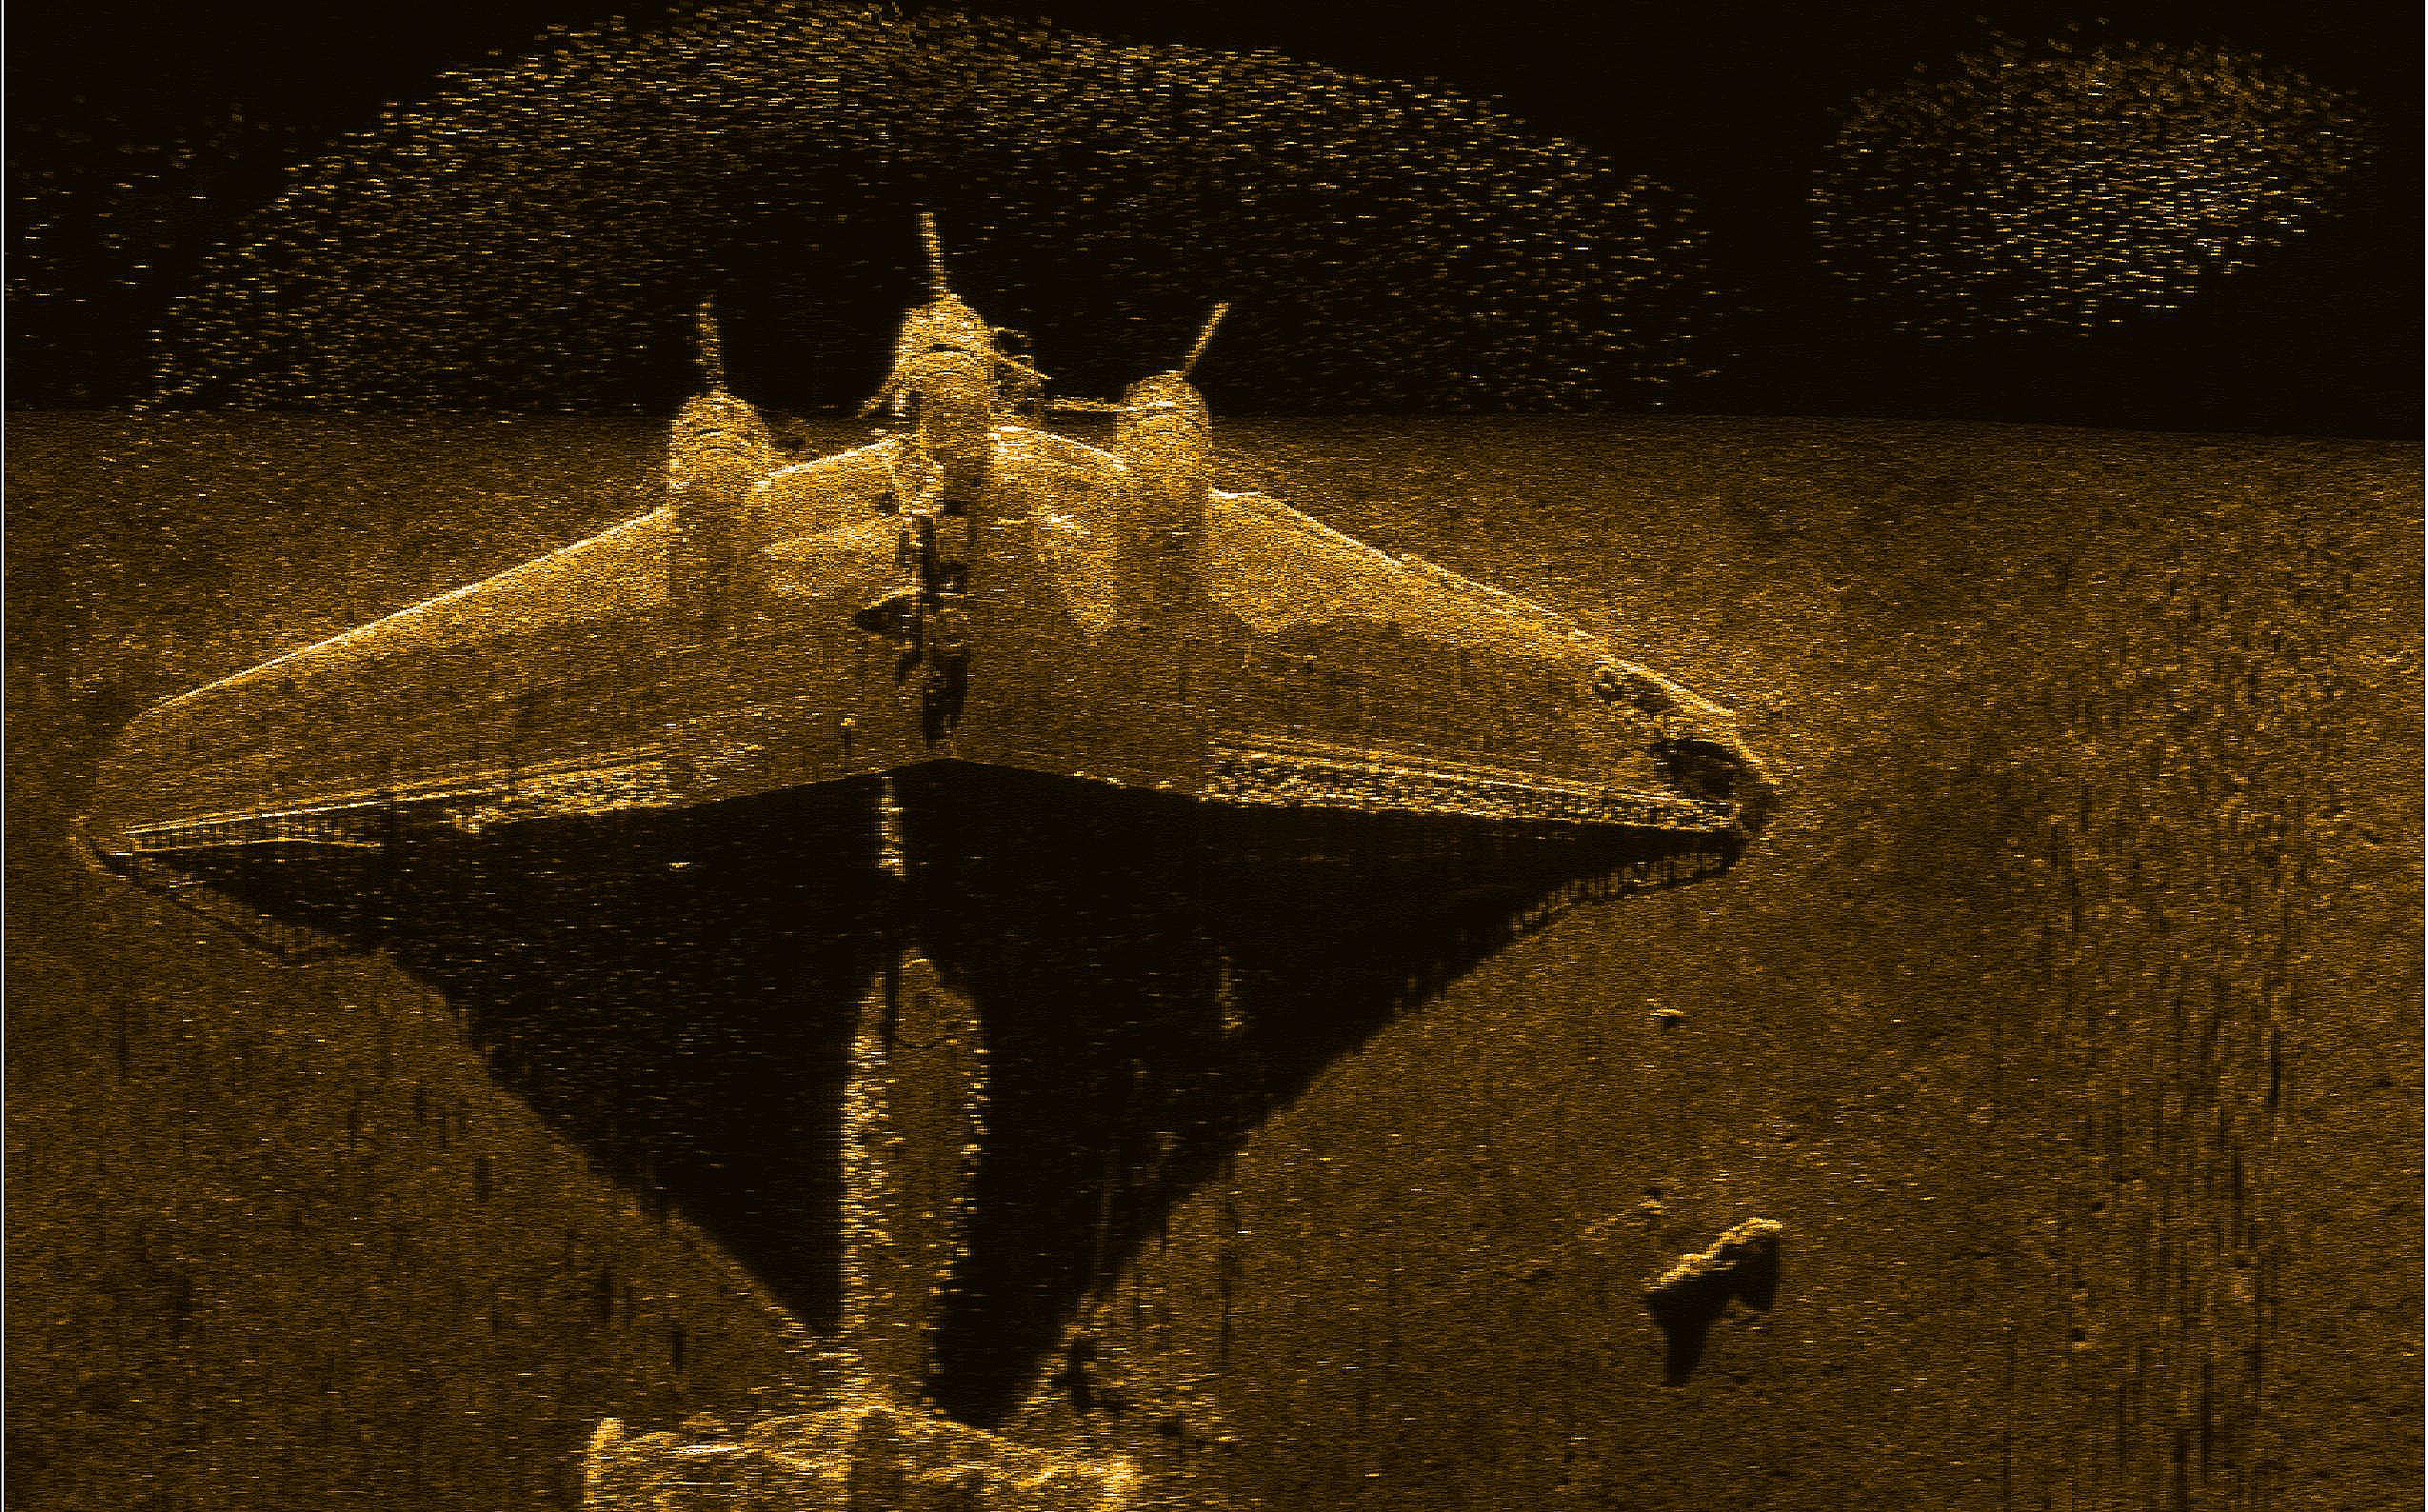aircraft: (70, 197, 1796, 1503)
